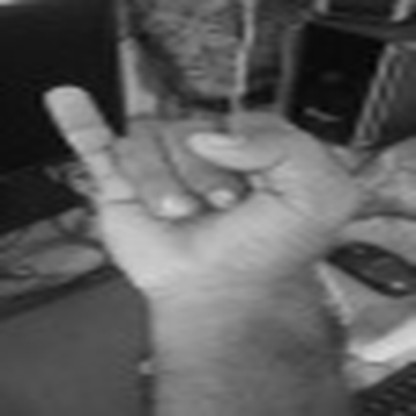i: (13, 80, 376, 304)
